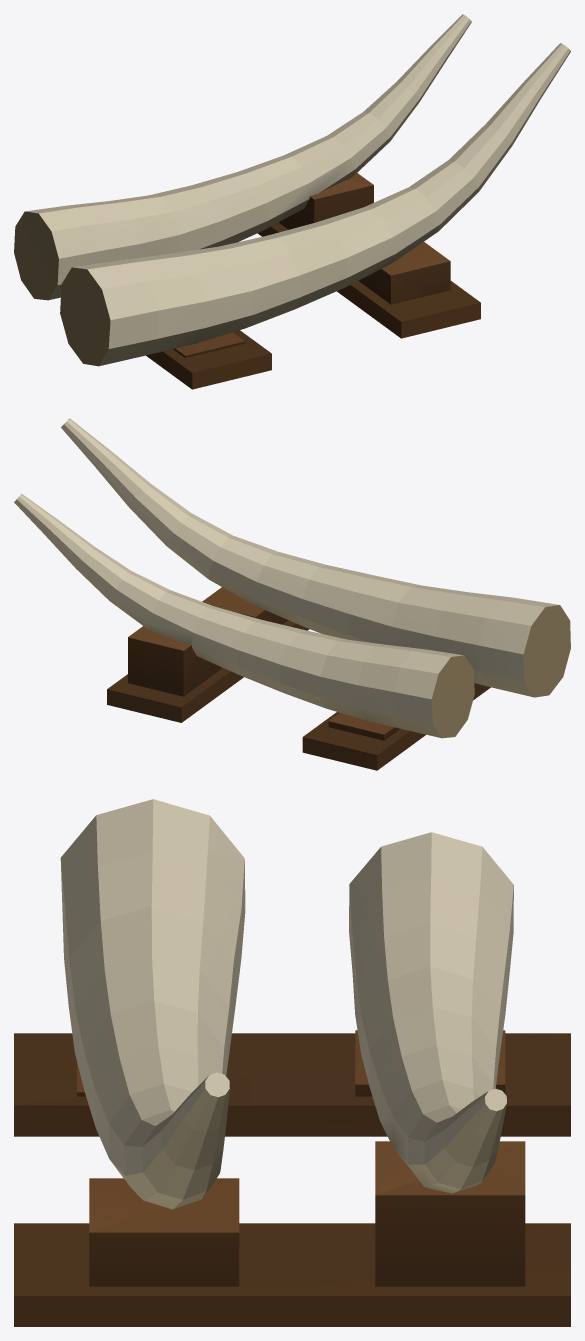
The picture shows the model from 3 angles, top to bottom: view 1: azimuth 30°, elevation 25°; view 2: azimuth 150°, elevation 25°; view 3: azimuth 270°, elevation 25°; orthographic projection. The views are drawn at different scales.
Visible parts, largest first — view 1: base; view 2: base; view 3: base.
Part boxes in pixels (left/top/right/bottom): base: left=14, top=14, right=570, bottom=389; base: left=14, top=418, right=570, bottom=770; base: left=14, top=799, right=570, bottom=1326.
Size of the model in its own units: 0.5059 by 0.1946 by 0.26.
